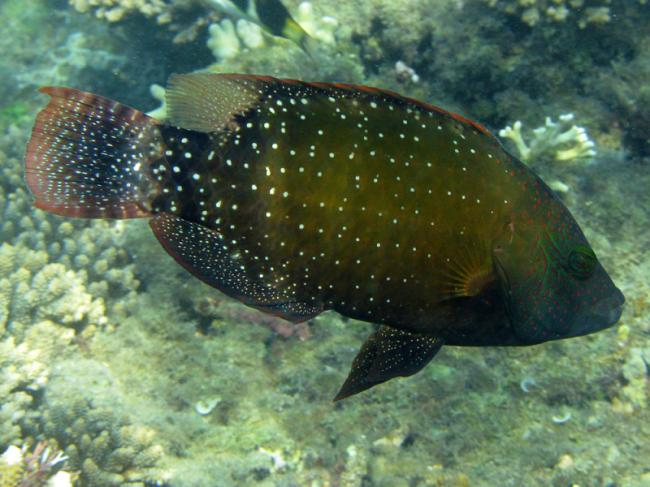fish: (23, 72, 626, 400)
